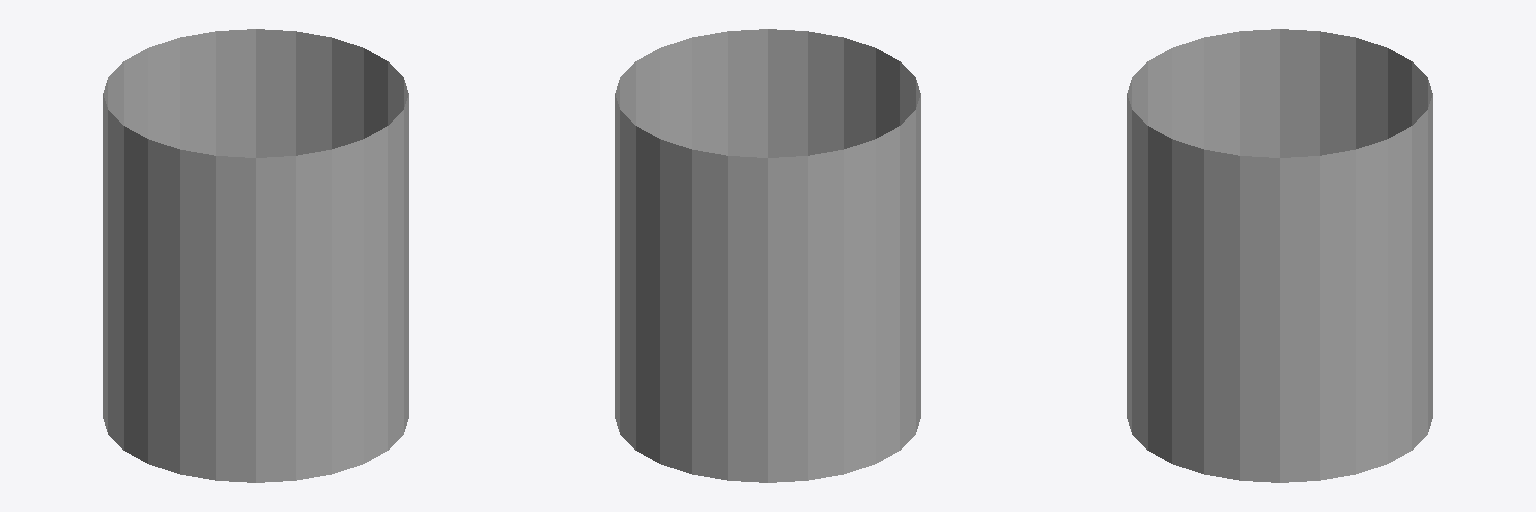
Rendered from Ramen1.obj.
3 renders of one model, left to right at view 1: azimuth 30°, elevation 25°; view 2: azimuth 150°, elevation 25°; view 3: azimuth 270°, elevation 25°, orthographic.
Visible parts, largest first — view 1: Bottle.003; view 2: Bottle.003; view 3: Bottle.003.
Boxes of the visible parts, <box> form: Bottle.003: <box>103,29,408,482</box>; Bottle.003: <box>615,29,920,482</box>; Bottle.003: <box>1127,29,1432,482</box>.
Bounding box in the file's own units: 1.57 × 1.84 × 1.57.